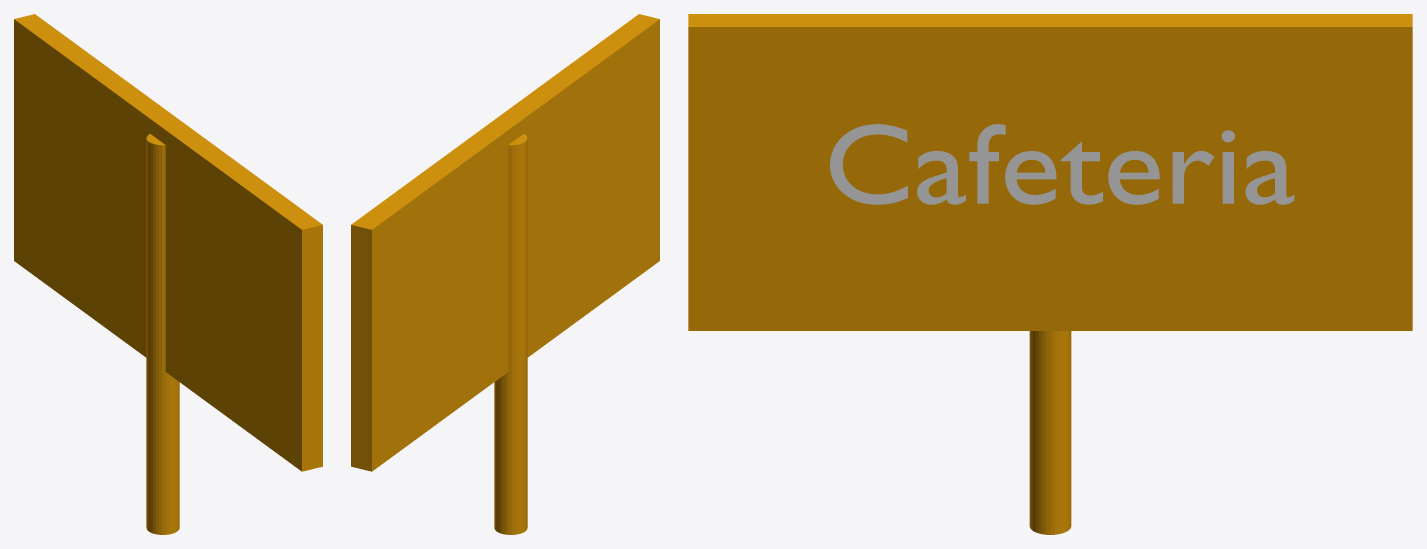
The model's file is Kyltti7.fbx.
3 renders of one model, left to right at view 1: azimuth 30°, elevation 25°; view 2: azimuth 150°, elevation 25°; view 3: azimuth 270°, elevation 25°, orthographic. The views are drawn at different scales.
Visible parts, largest first — view 1: Kyltti7, Cylinder.006; view 2: Kyltti7, Cylinder.006; view 3: Kyltti7, Text.001, Cylinder.006.
Boxes of the visible parts, left/top/right/bottom form: Kyltti7: left=14, top=14, right=322, bottom=471; Cylinder.006: left=146, top=134, right=179, bottom=534; Kyltti7: left=351, top=14, right=659, bottom=471; Cylinder.006: left=494, top=134, right=527, bottom=534; Kyltti7: left=688, top=14, right=1412, bottom=330; Text.001: left=830, top=124, right=1294, bottom=204; Cylinder.006: left=1029, top=331, right=1071, bottom=534.
Size of the model in its own units: 36.68 by 442 by 570.
